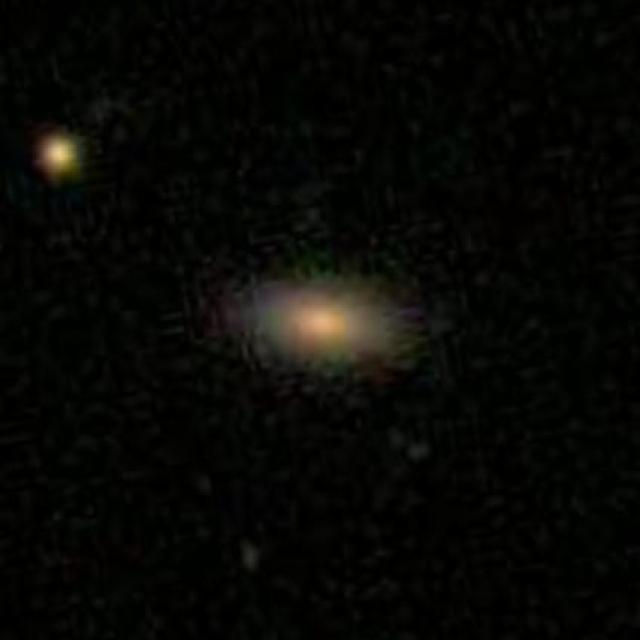galaxy: (219, 259, 438, 393), (27, 123, 93, 186)
